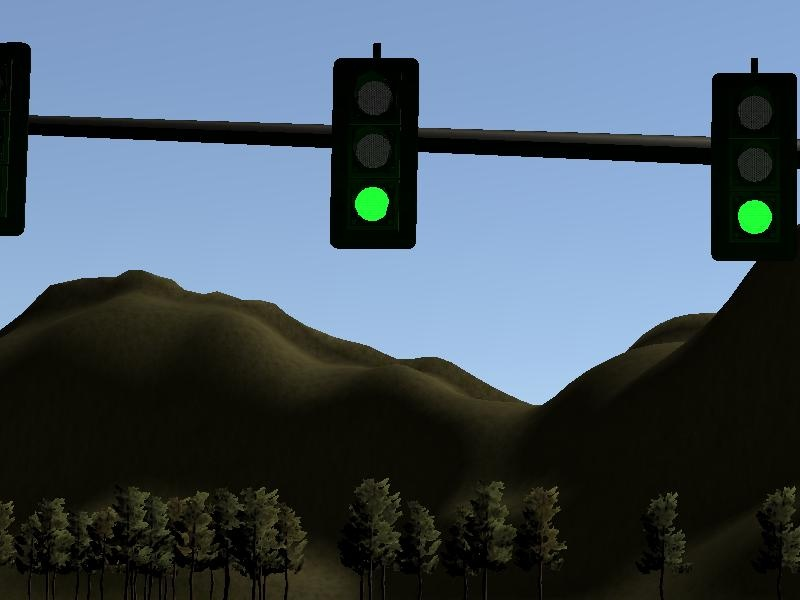GREEN: (328, 55, 423, 251), (708, 69, 798, 264)
